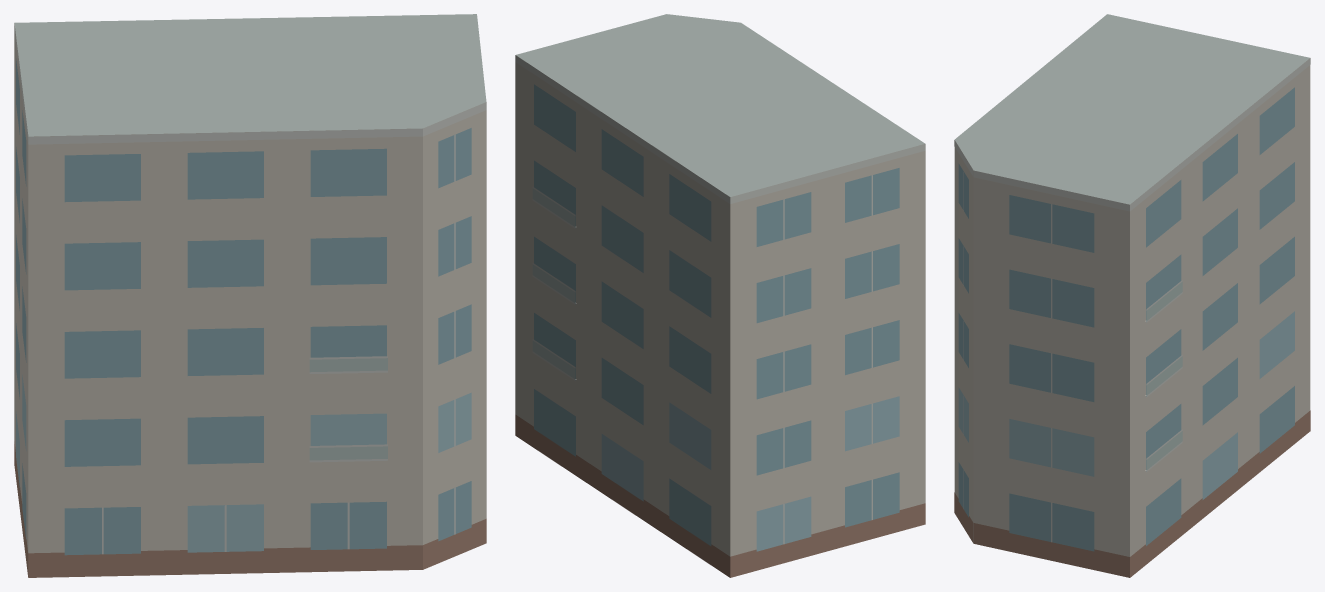
File: survey-upis-32942376.glb
3 views of the same model, side by side, from view 1: azimuth 30°, elevation 25°; view 2: azimuth 150°, elevation 25°; view 3: azimuth 270°, elevation 25° (orthographic). The views are drawn at different scales.
Parts seen in each view (by area): view 1: survey-upis-32942376.tmp; view 2: survey-upis-32942376.tmp; view 3: survey-upis-32942376.tmp.
Boxes of the visible parts, box(x1,y1,x2,y2) form: survey-upis-32942376.tmp: box(14, 14, 486, 577); survey-upis-32942376.tmp: box(515, 14, 925, 577); survey-upis-32942376.tmp: box(954, 14, 1310, 577).
Size of the model in its own units: 14.58 by 13.3 by 11.51.
